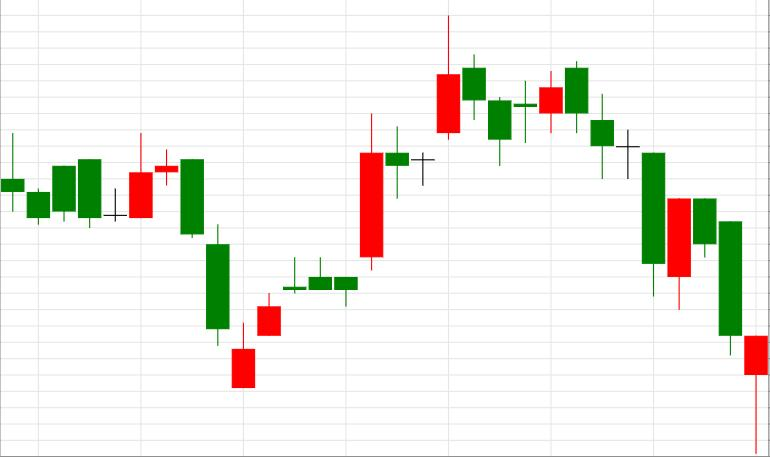hammer_rise: (566, 61, 768, 453)
